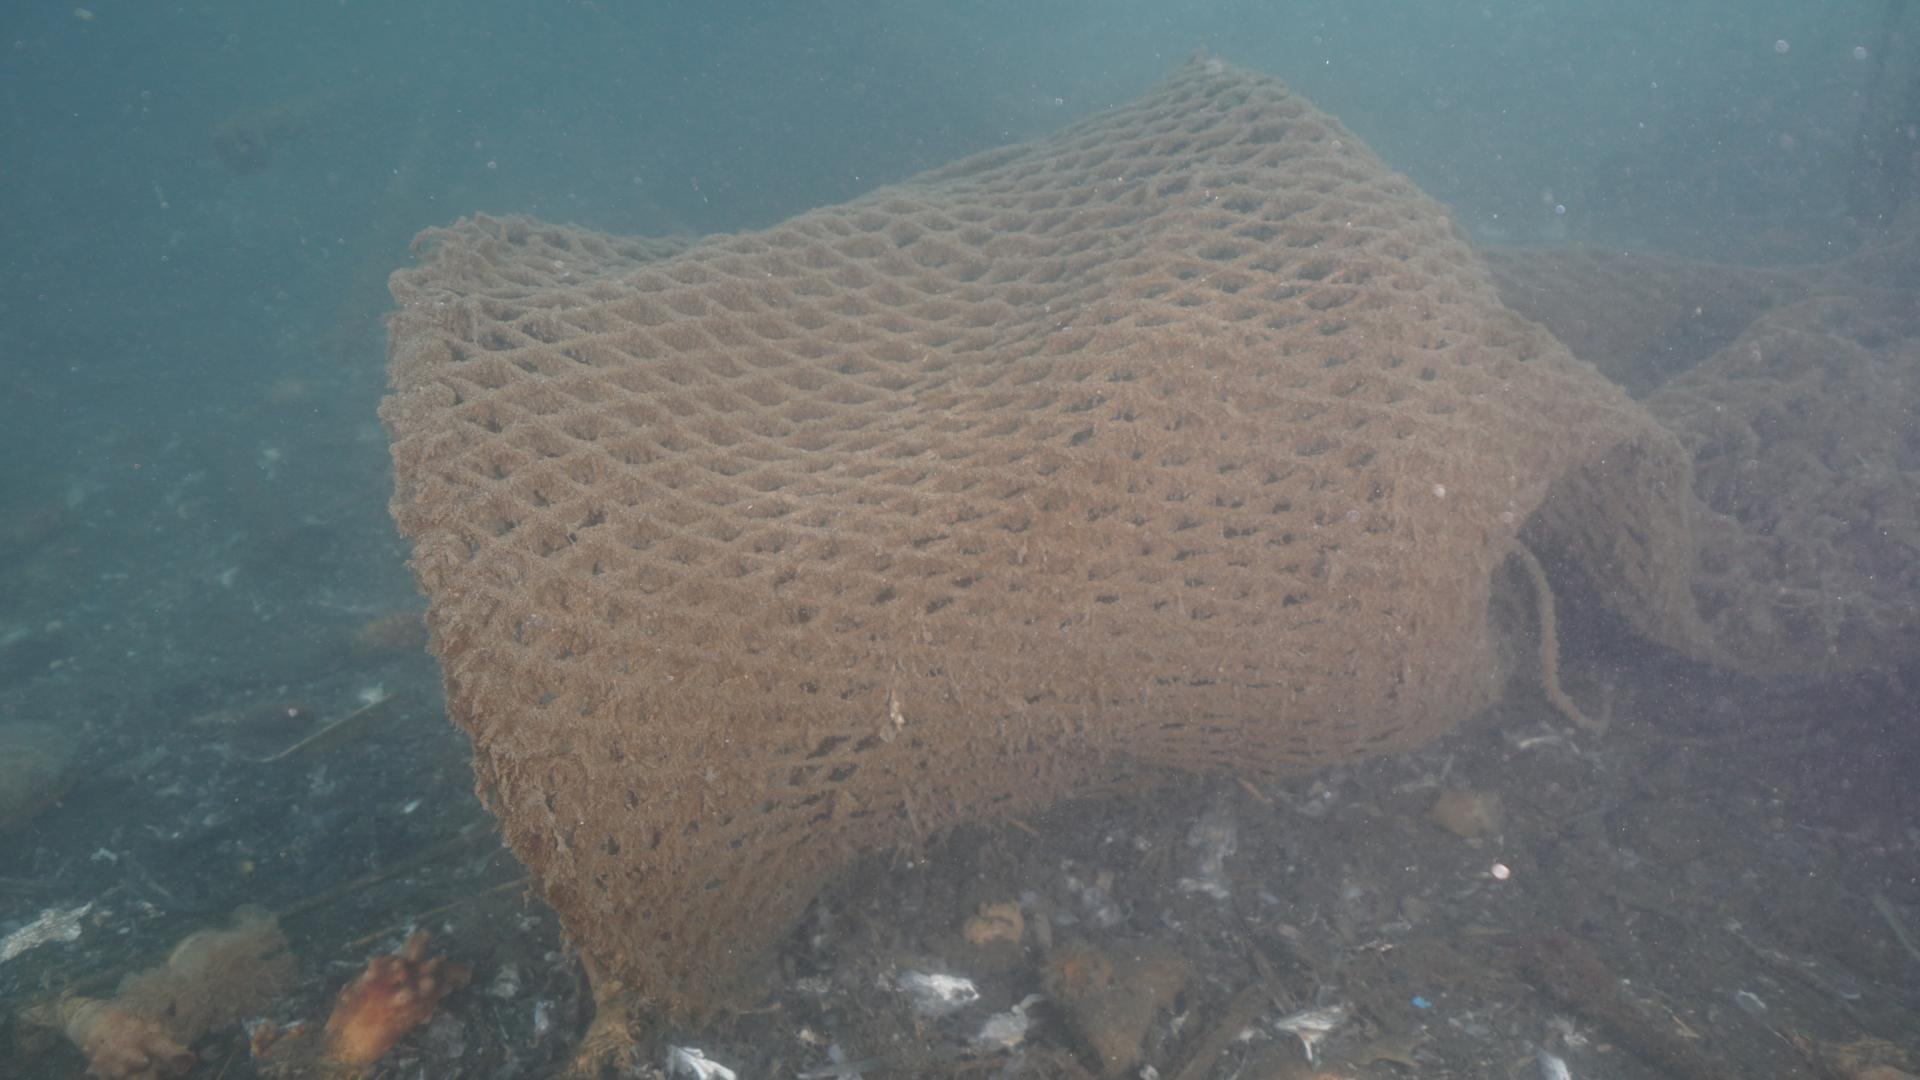spring fish trap: (371, 44, 1520, 1023)
